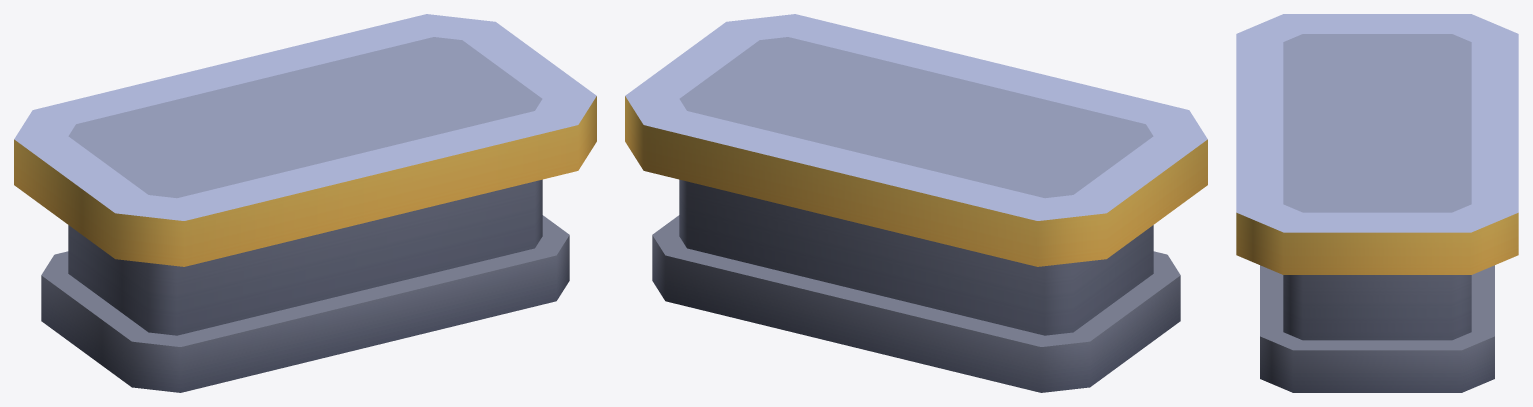
The model's file is table.obj.
The picture shows the model from 3 angles, left to right: view 1: azimuth 30°, elevation 25°; view 2: azimuth 150°, elevation 25°; view 3: azimuth 270°, elevation 25°; orthographic projection. The views are drawn at different scales.
Visible parts, largest first — view 1: table; view 2: table; view 3: table.
Boxes of the visible parts, bbox=[...] form: table: bbox=[14, 14, 596, 392]; table: bbox=[625, 14, 1207, 392]; table: bbox=[1236, 14, 1518, 392].
Bounding box in the file's own units: 1.1 × 0.4 × 0.6.
Materials: 1 (1 with a texture image).
